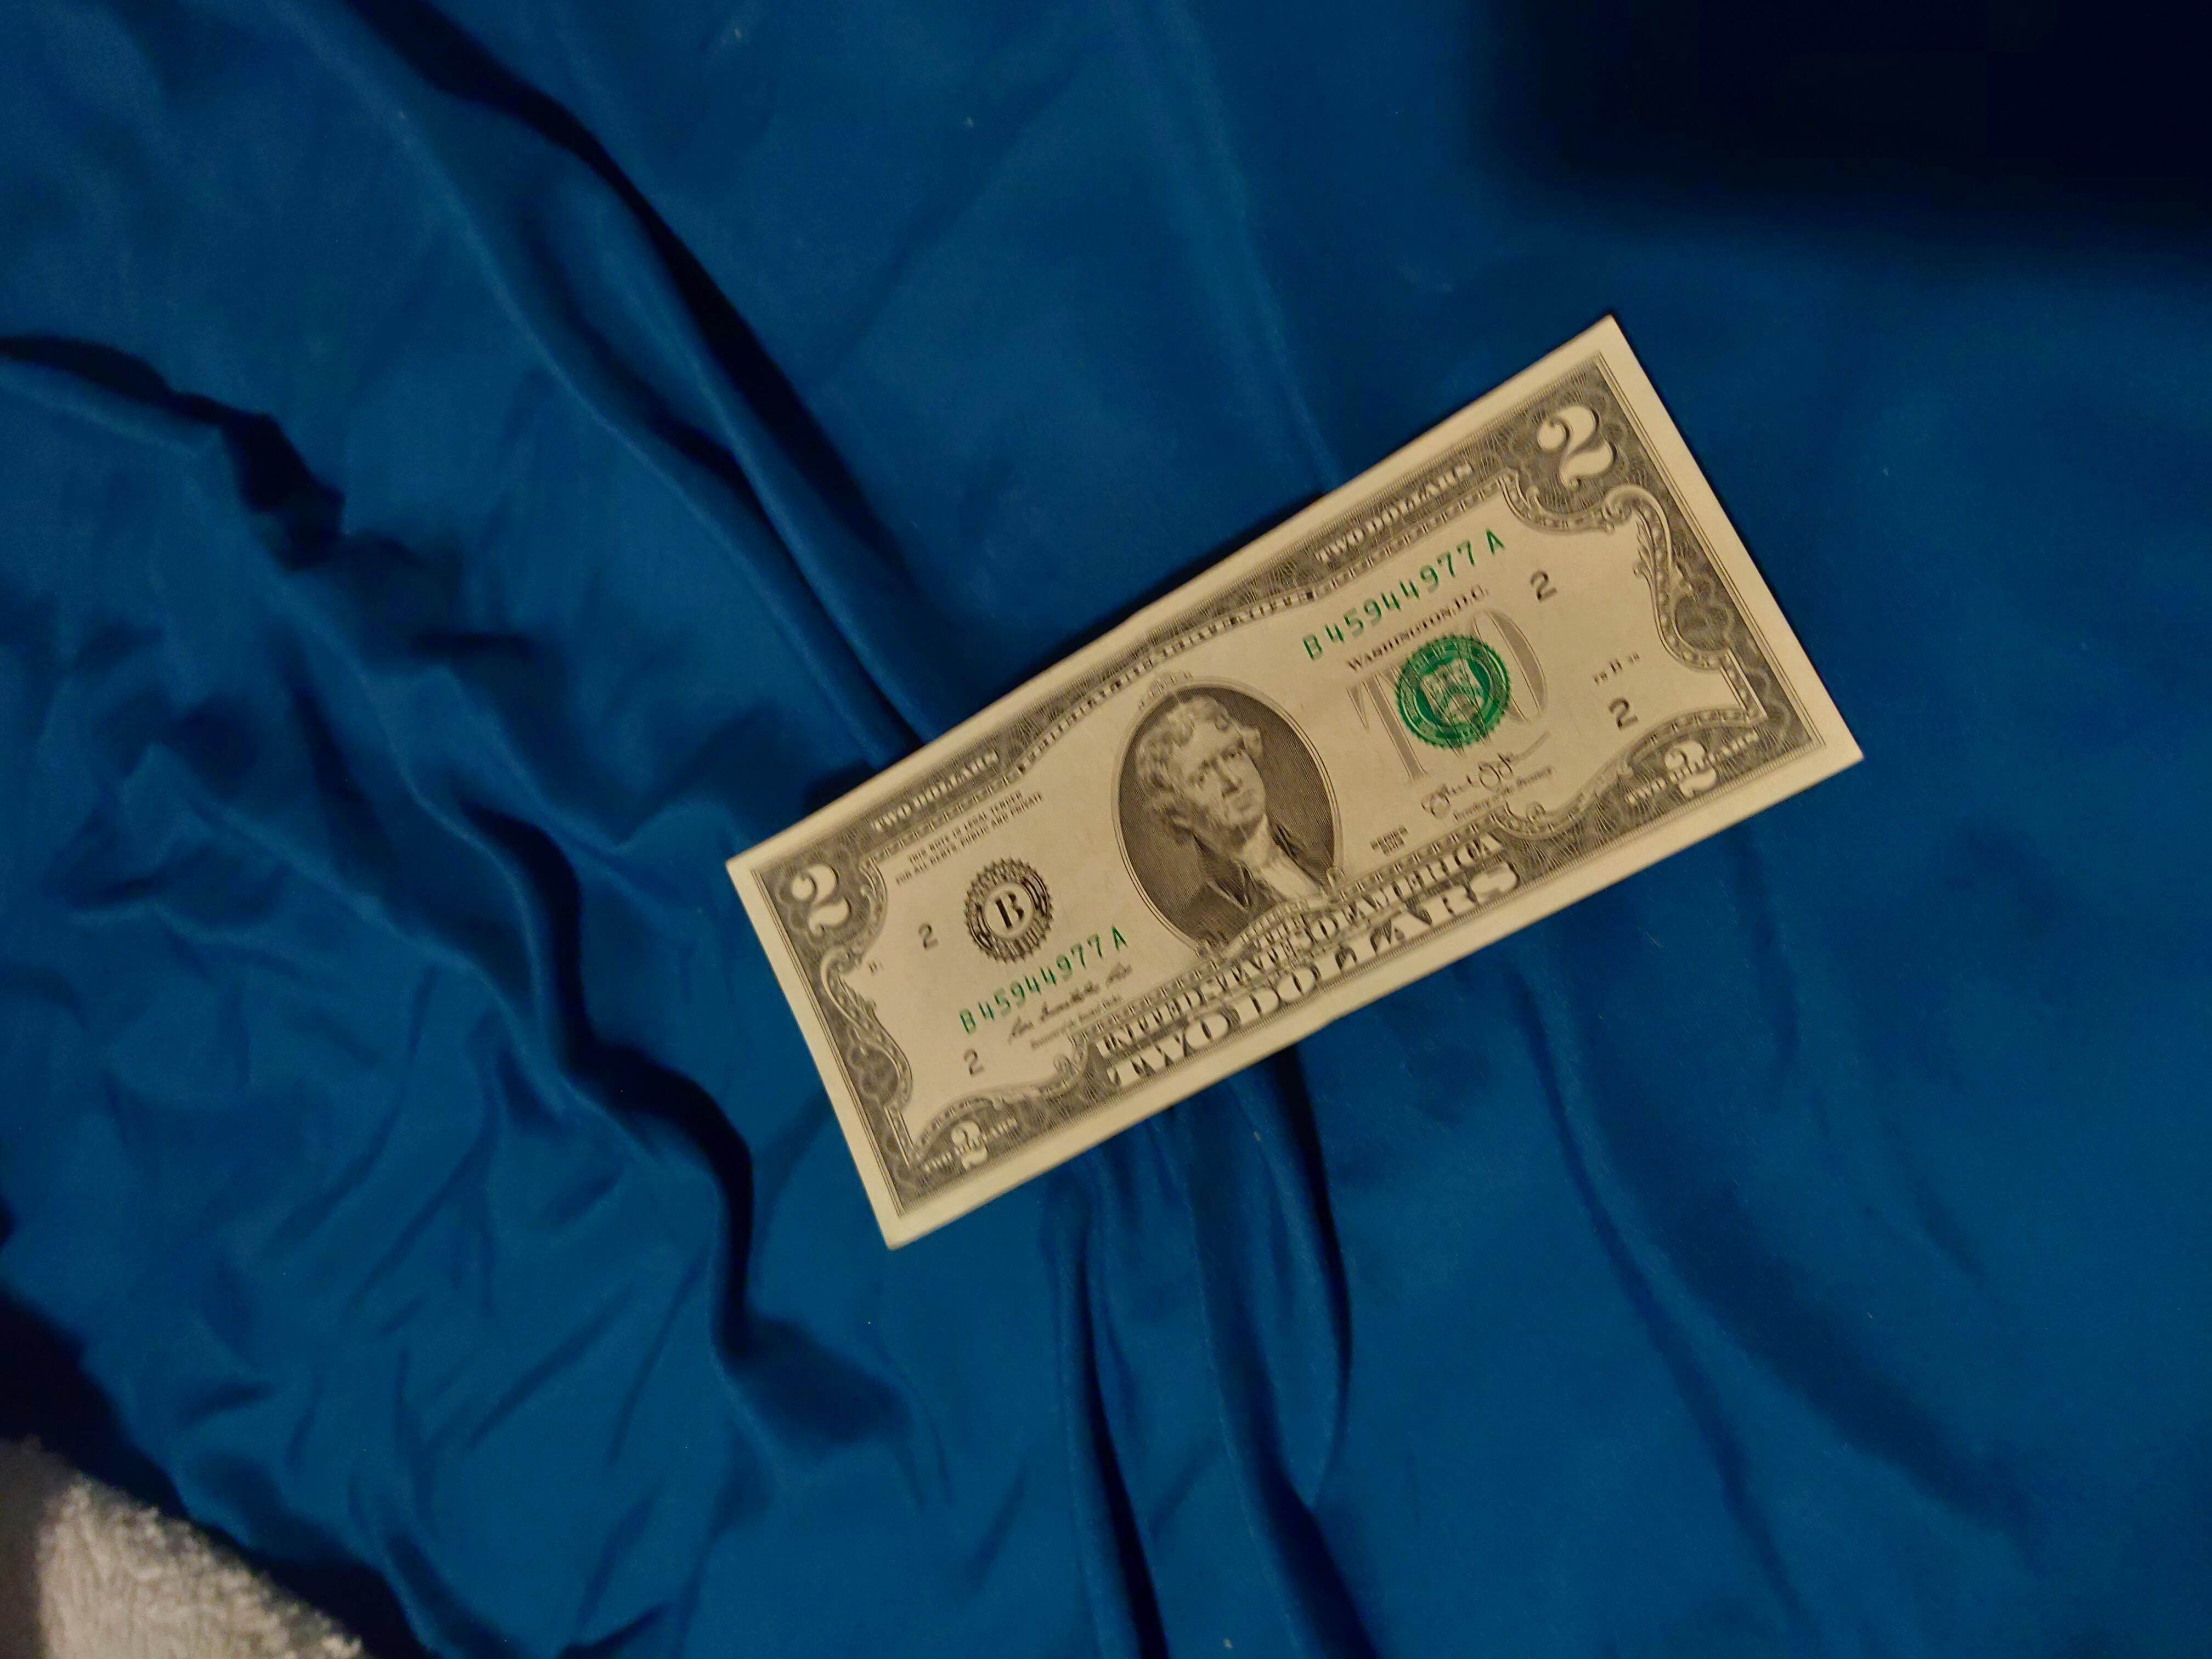TwoBill: (725, 308, 1867, 1251)
